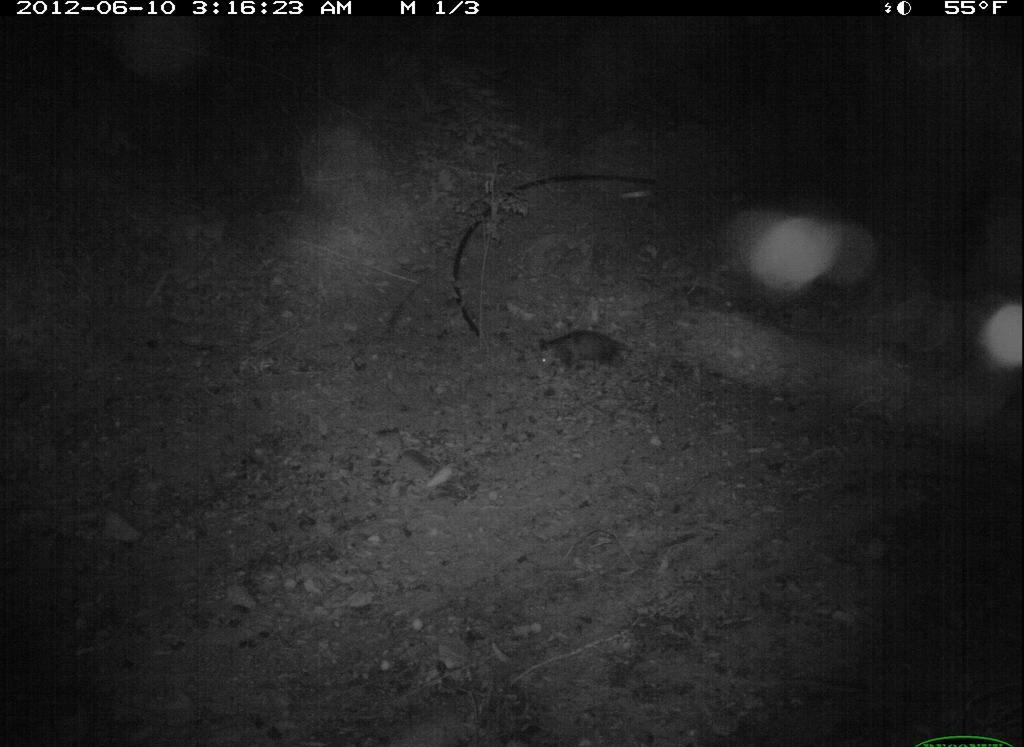opossum: (525, 314, 646, 387)
